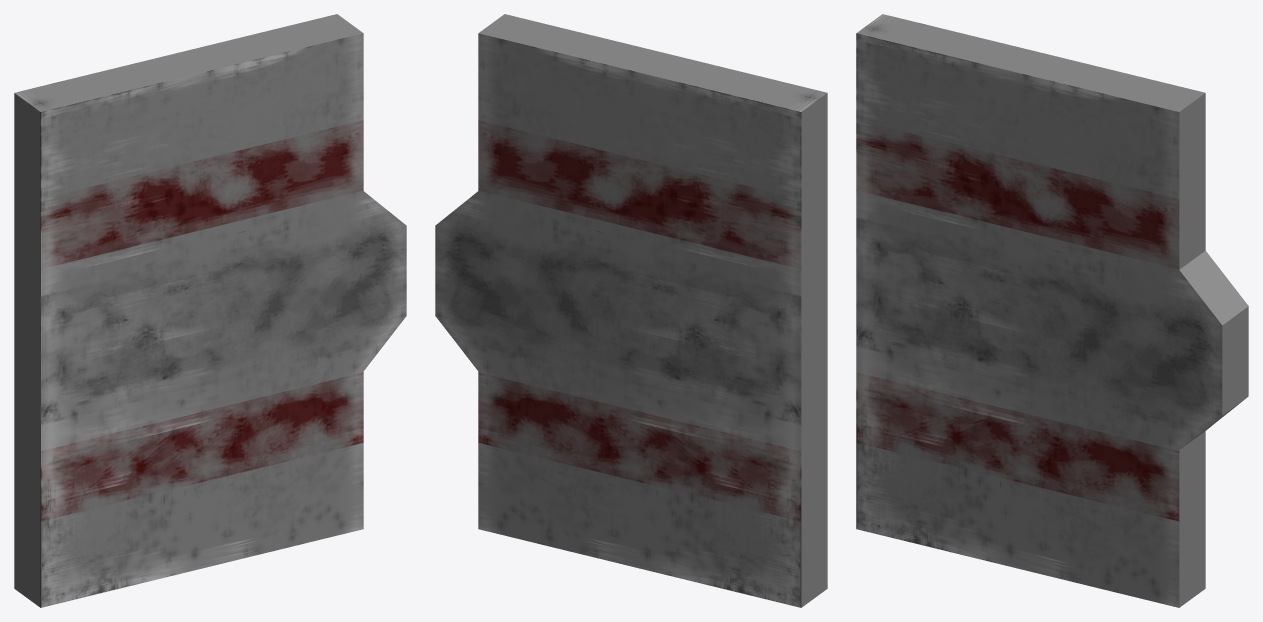
The model's file is Sliding_Door_L.FBX.
The picture shows the model from 3 angles, left to right: view 1: azimuth 30°, elevation 25°; view 2: azimuth 150°, elevation 25°; view 3: azimuth 330°, elevation 25°; orthographic projection.
Parts seen in each view (by area): view 1: Slide_Door_Left; view 2: Slide_Door_Left; view 3: Slide_Door_Left.
Part boxes in pixels (box(x1,y1,x2,y2)): Slide_Door_Left: box(14, 14, 406, 607); Slide_Door_Left: box(435, 14, 827, 607); Slide_Door_Left: box(856, 14, 1248, 607).
Size of the model in its own units: 272 by 352 by 34.
